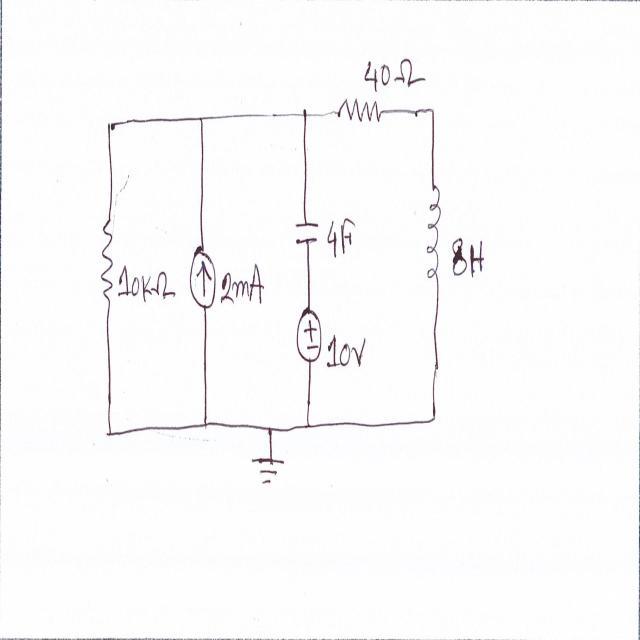capacitor: (293, 214, 323, 252)
current_source: (188, 238, 217, 312)
ground: (250, 448, 285, 492)
inductor: (426, 175, 445, 287)
resistor: (333, 90, 384, 130), (99, 202, 116, 308)
voltage_source: (294, 299, 324, 365)
